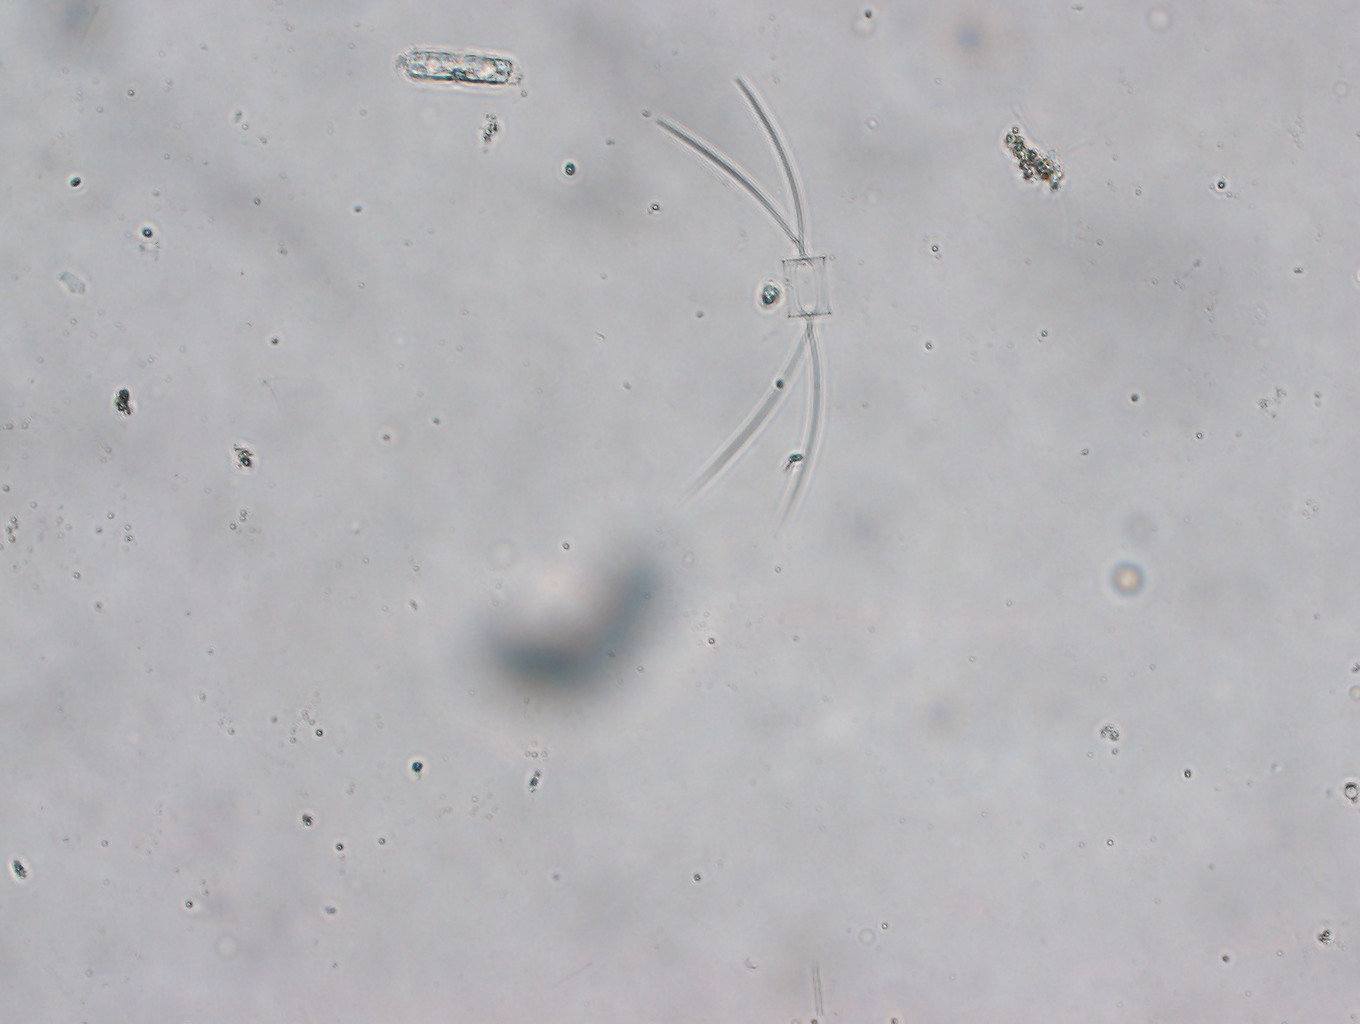chaetoceros: (655, 76, 831, 525)
